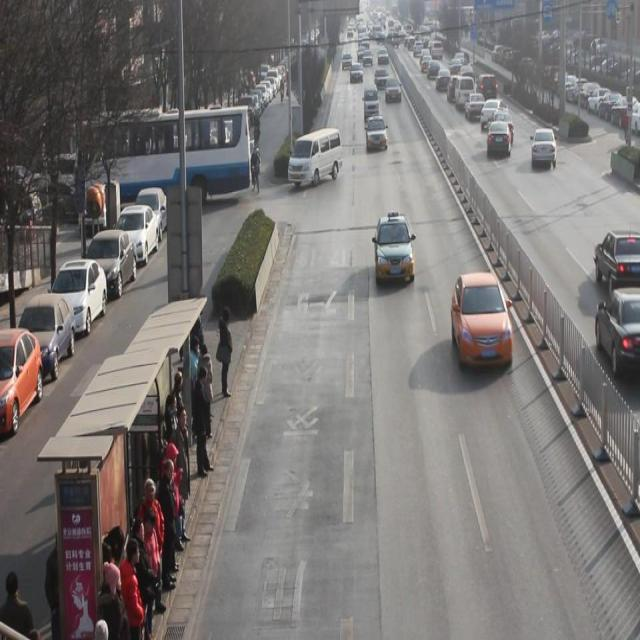car: (451, 273, 513, 371), (594, 286, 640, 379), (594, 228, 640, 298), (374, 215, 416, 285), (531, 127, 557, 170), (481, 97, 510, 134), (487, 118, 512, 159), (489, 110, 514, 146), (365, 114, 388, 153), (476, 72, 498, 108), (464, 92, 487, 121), (447, 74, 466, 103), (384, 76, 402, 105), (457, 64, 476, 89), (436, 68, 453, 92)
truck: (288, 128, 343, 188), (455, 74, 476, 112), (364, 83, 380, 124)
